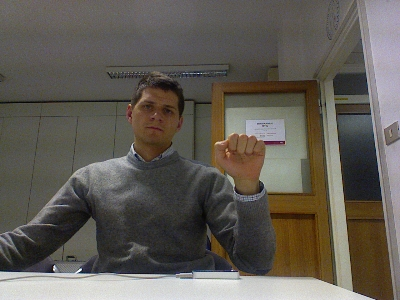石头: (213, 133, 266, 180)
